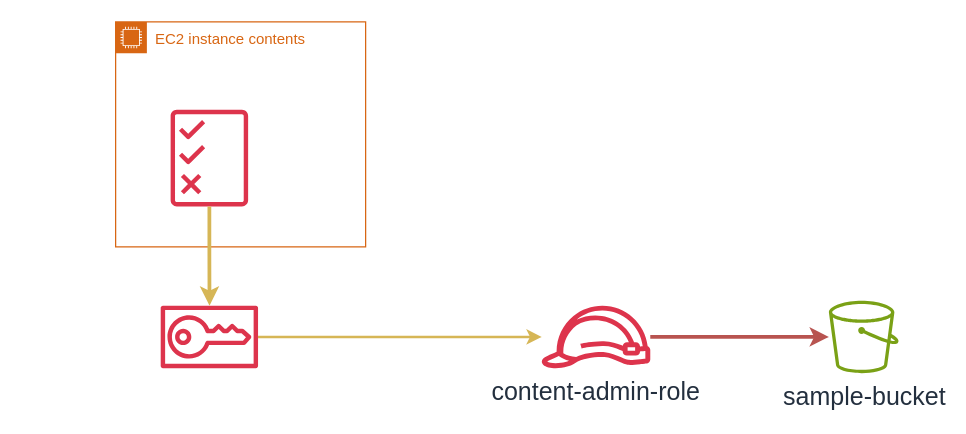
Image size: 966x434. Some labels were removed from this diagram. The shapes that lost their labels are listed below. From the top down, each one's centre as x and y in pixels, then its label:
pixel 209 157: Identity-based access policy
pixel 209 336: STS Temporary Token
